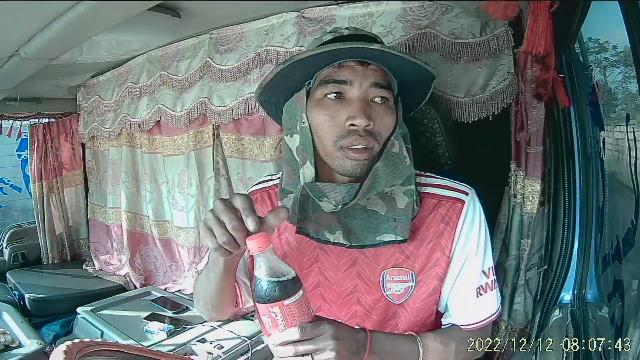PhoneUse: (141, 308, 191, 334), (146, 292, 192, 316)
SafeDriving: (318, 83, 352, 106), (364, 87, 394, 110)
